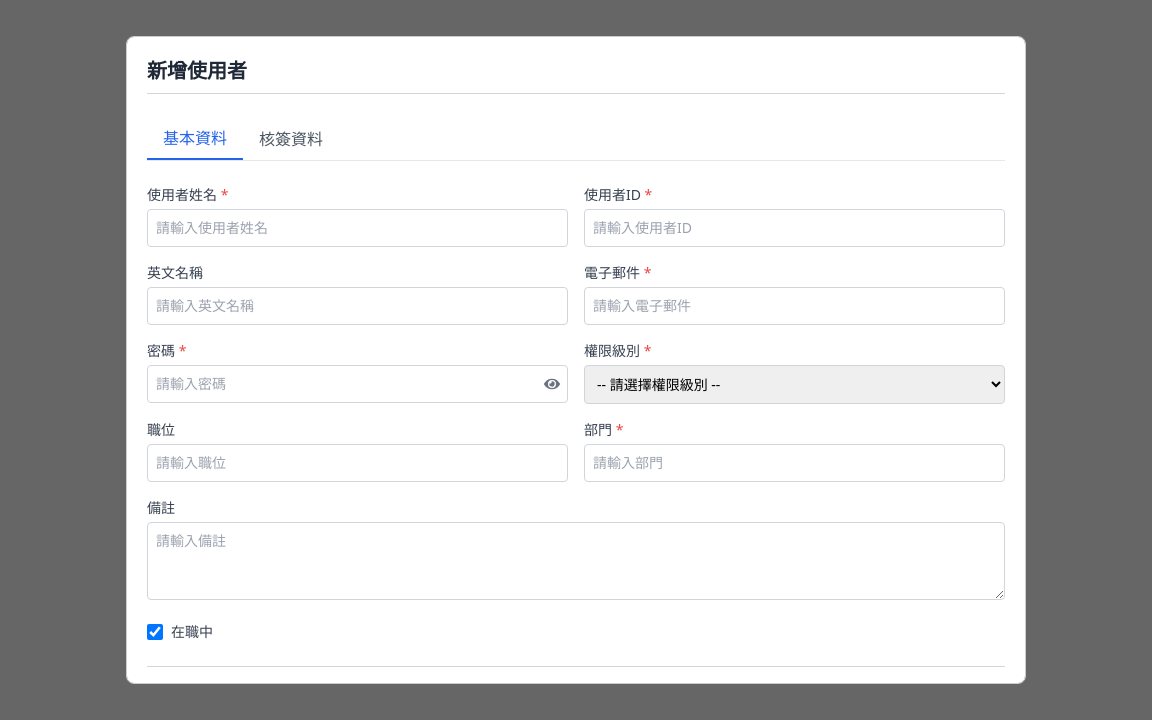
UserModal Component › 表單驗證 › 新增模式未填寫密碼時應該顯示錯誤
This screenshot has width=1152, height=720.
Type "測試使用者" into the field labelled "使用者姓名 *" at (358, 228), box [147, 209, 568, 247]
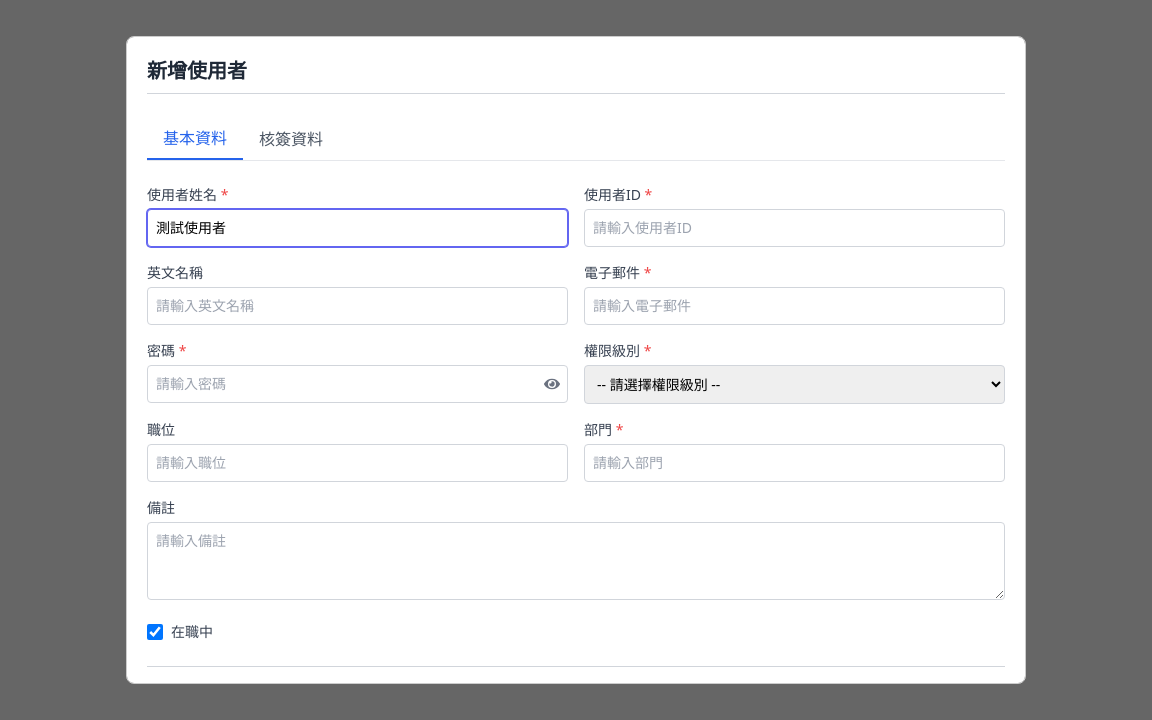
Type "testuser" into the field labelled "使用者ID *" at (794, 228), box [584, 209, 1005, 247]
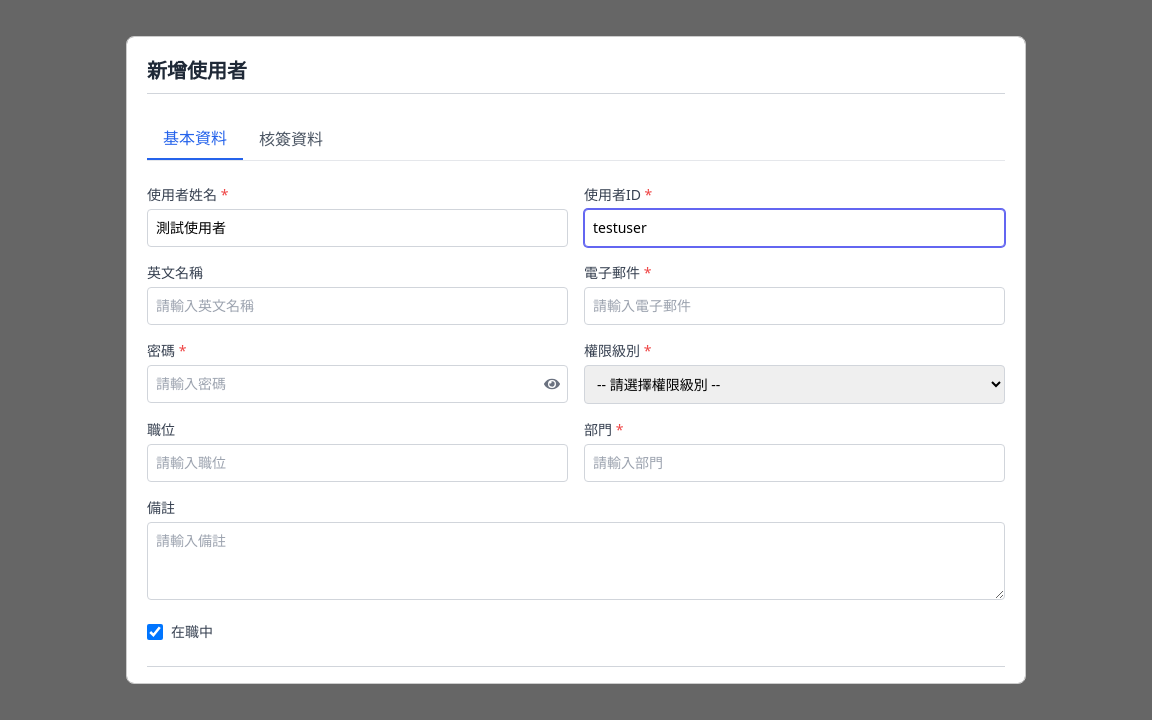
Type "test@example.com" into the field labelled "電子郵件 *" at (794, 306), box [584, 287, 1005, 325]
(page scrolled)
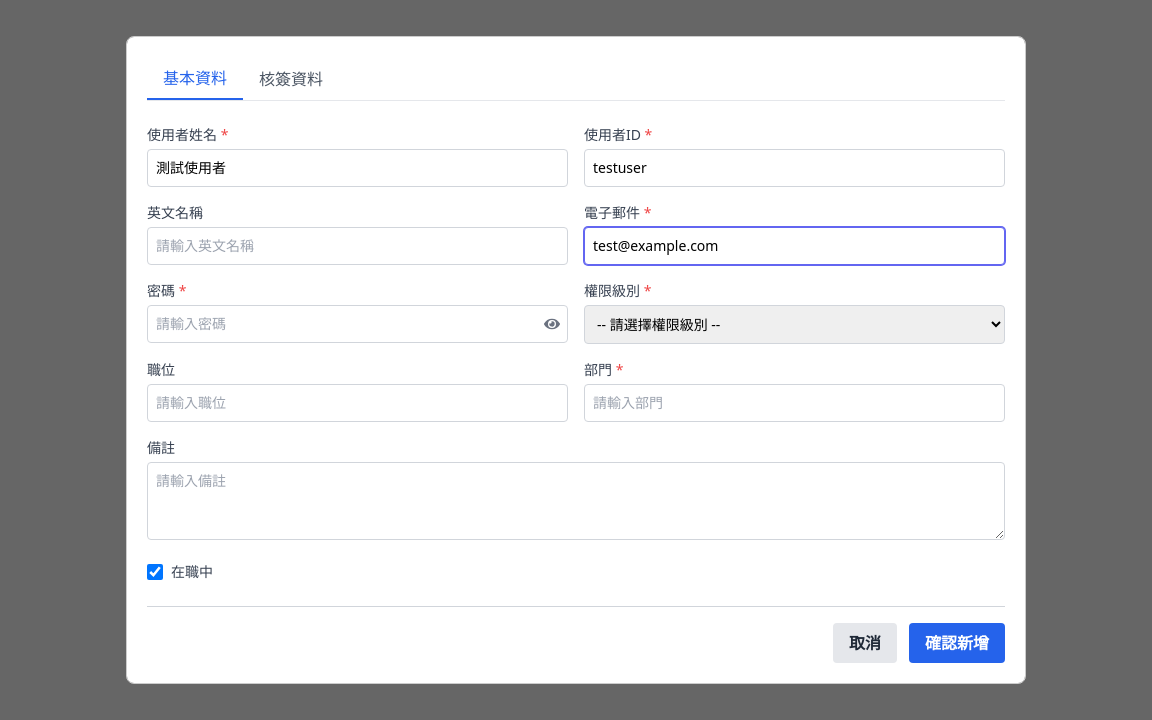
Click the button "確認新增" at (957, 643), box [909, 623, 1005, 663]
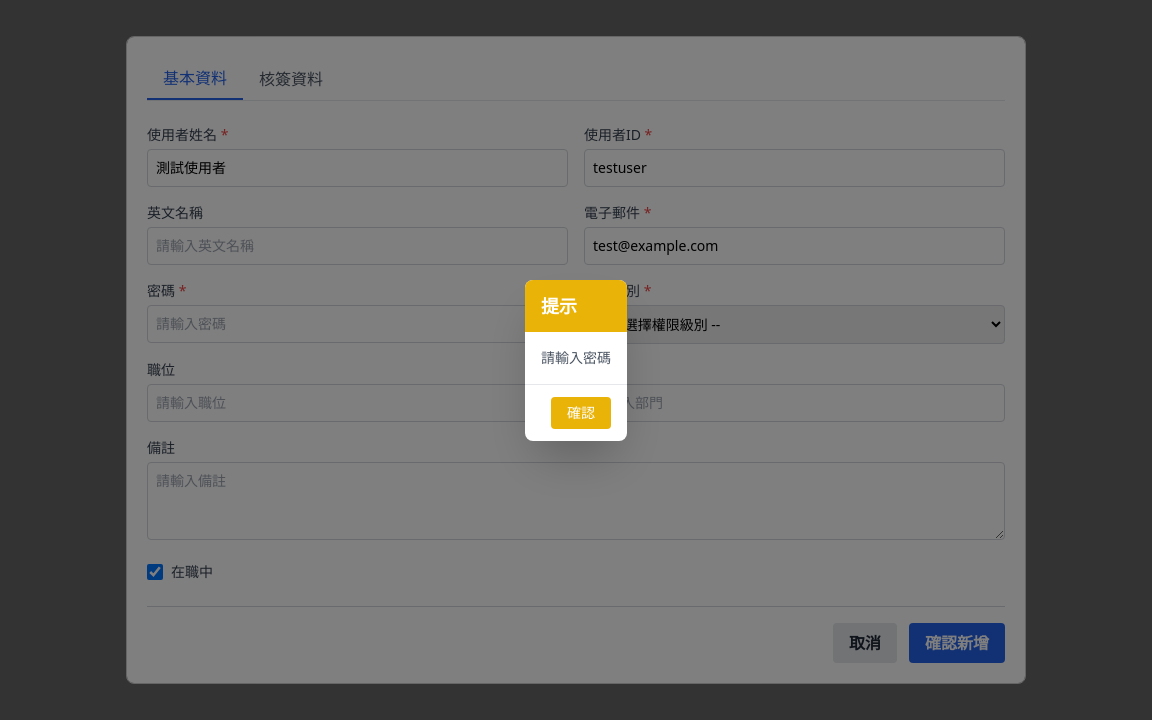
Result: the text "請輸入密碼" is shown at [541, 348, 611, 368]
